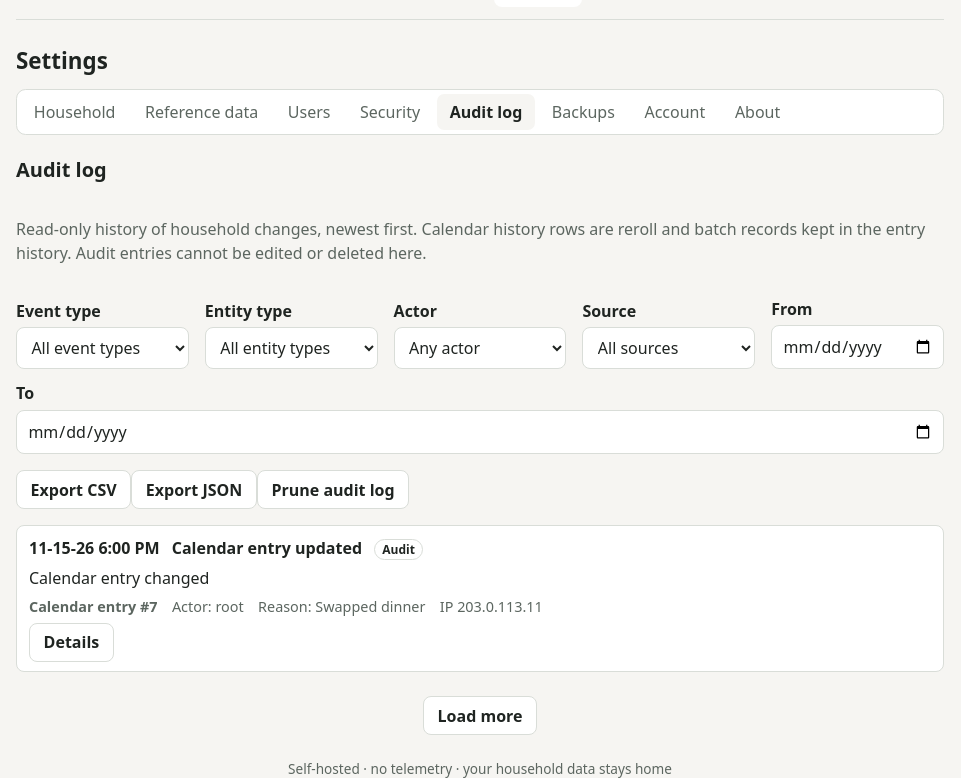
Test case: audit log section › appends the next page when Load more follows next_cursor
(page scrolled)
Expected: the text "Calendar entry updated" is shown, [172,536,362,560]
Click the button "Load more".
click(480, 716)  # box [423,696,537,735]
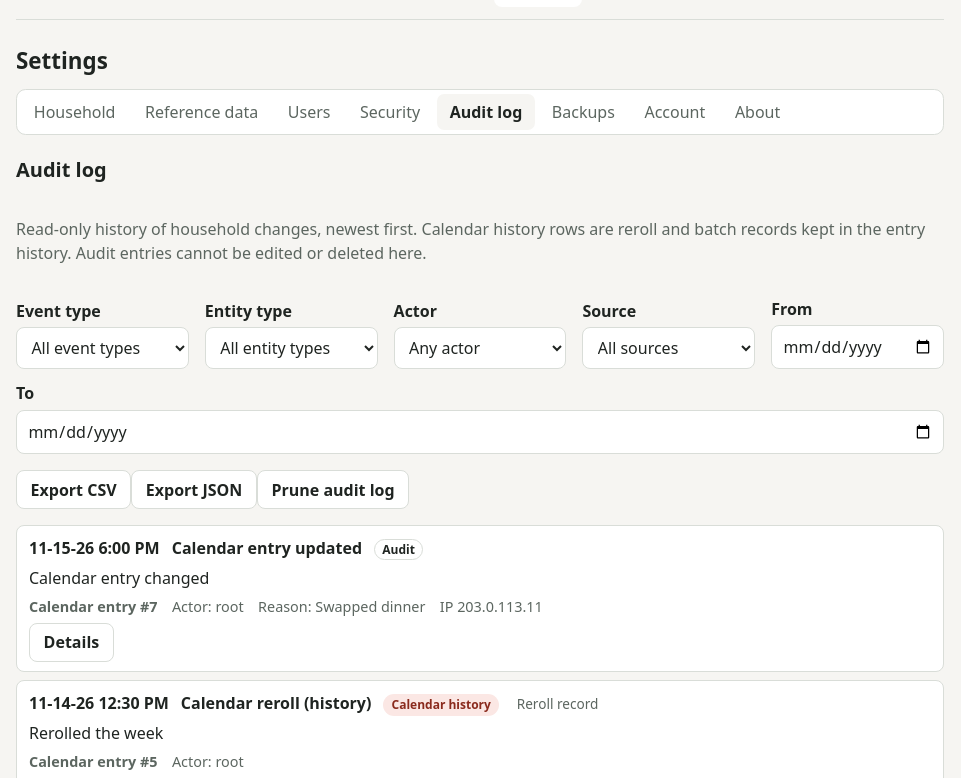
Now the text "Calendar reroll (history)" is shown, box [181,691,371,715]
Now the button "Load more" is gone
